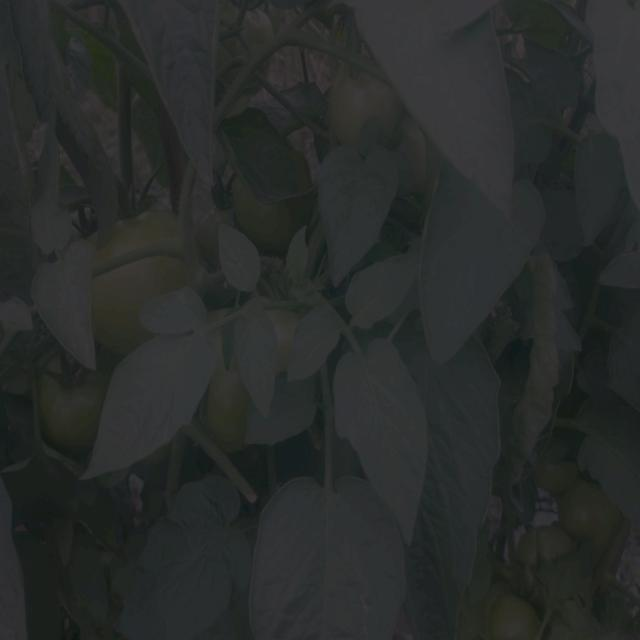tomato: (212, 312, 334, 464), (67, 207, 197, 316), (221, 119, 319, 246), (31, 337, 121, 453), (324, 65, 401, 150), (218, 14, 291, 87), (572, 479, 626, 550), (484, 592, 556, 640), (511, 534, 567, 581), (529, 446, 568, 491)
